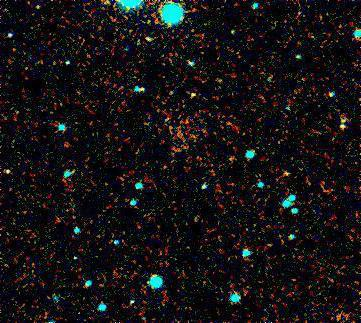star: (178, 81, 208, 111)
